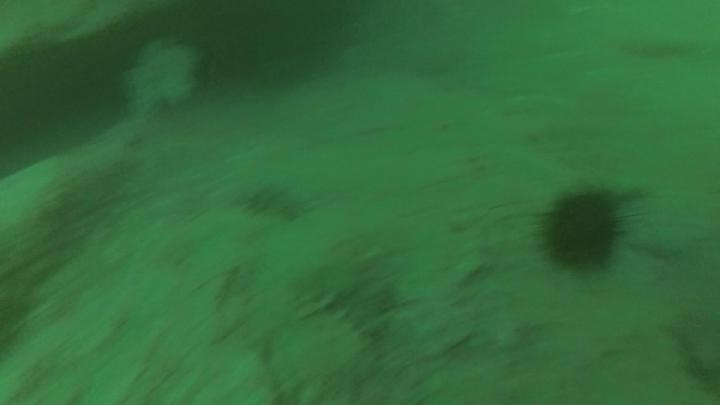echinus: (537, 186, 627, 276)
holothurian: (291, 259, 402, 342)
